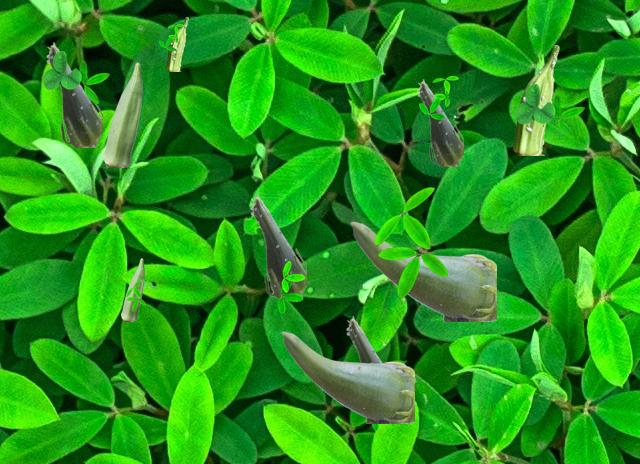okra: (350, 221, 495, 320), (281, 331, 413, 422), (250, 194, 305, 298), (46, 42, 101, 146), (513, 45, 558, 154), (103, 62, 141, 166), (417, 79, 462, 165), (346, 316, 382, 362), (121, 258, 143, 320), (166, 17, 187, 70)
